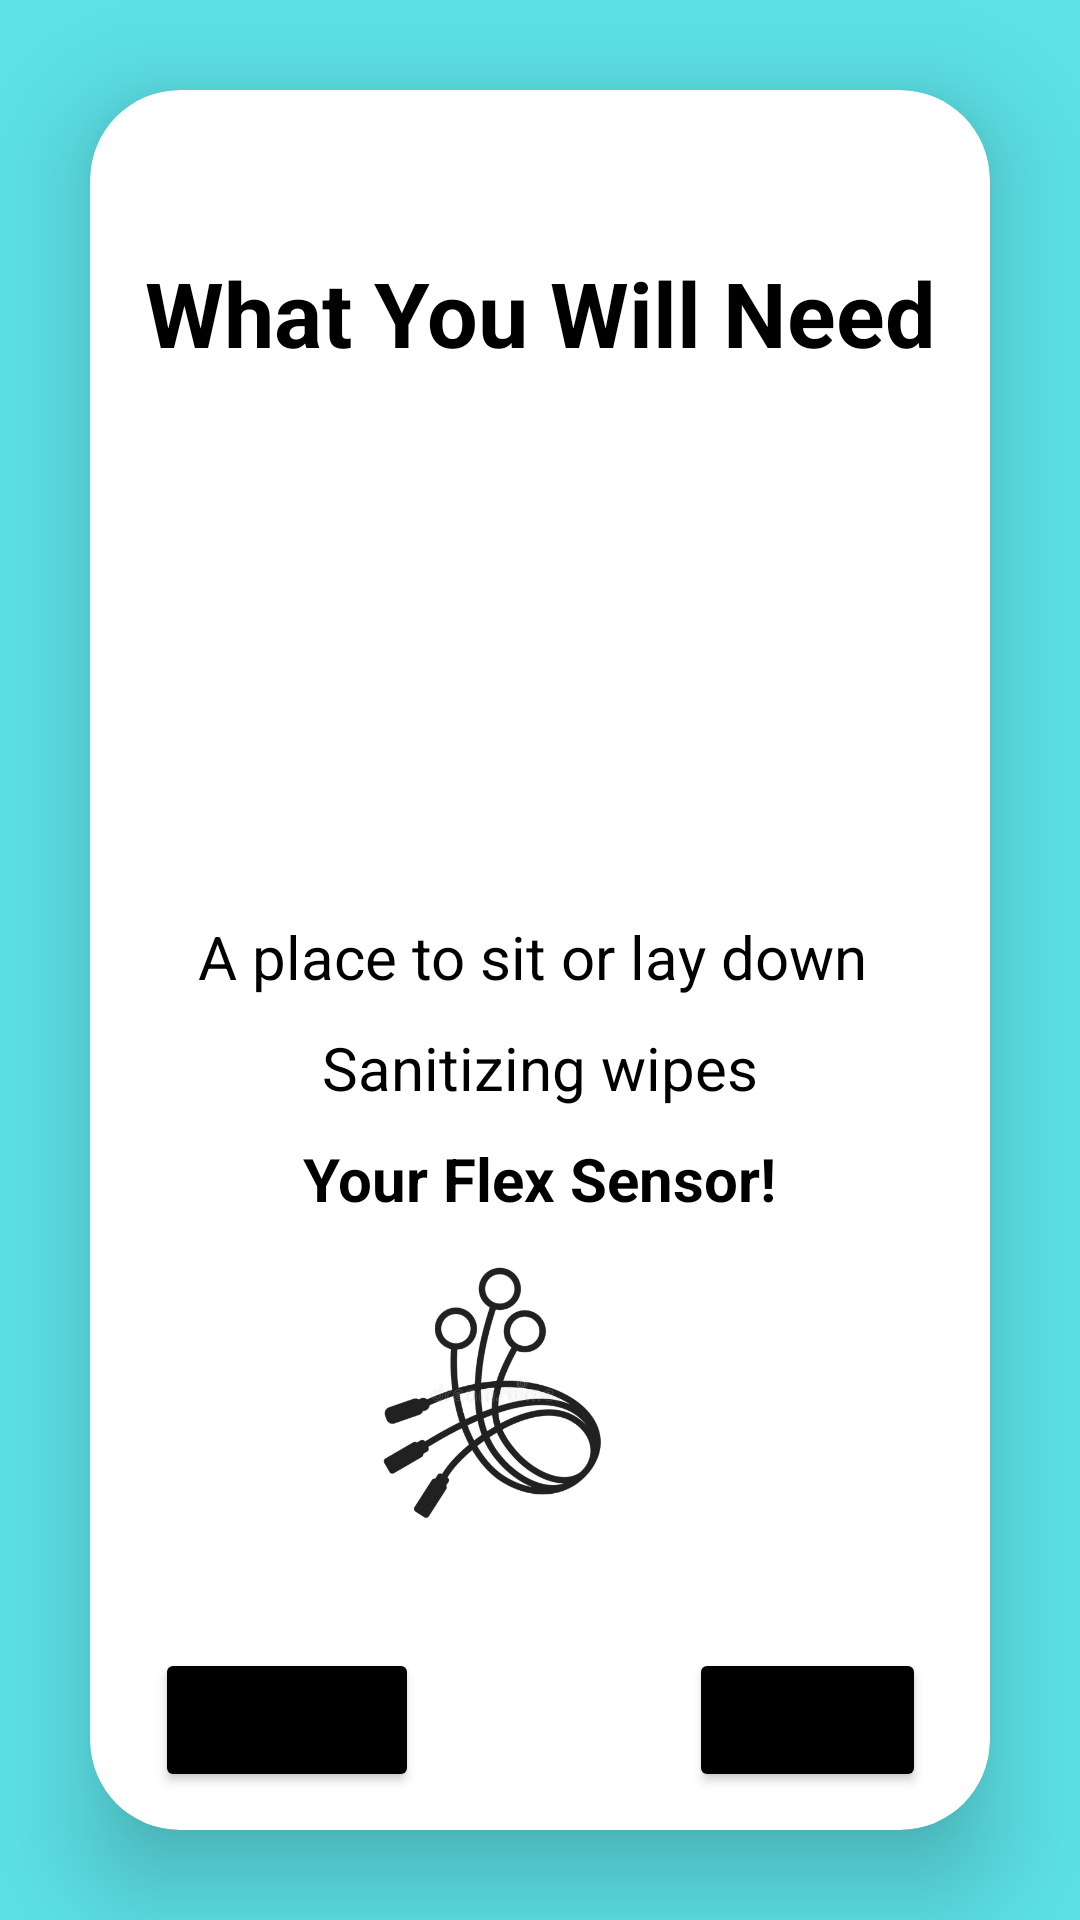

Locate icon controls on the screen. Image size 1080 x 1920, boxes as Rect(x1, y1, x2, y2).
emg sensor: Rect(383, 1267, 601, 1518)
